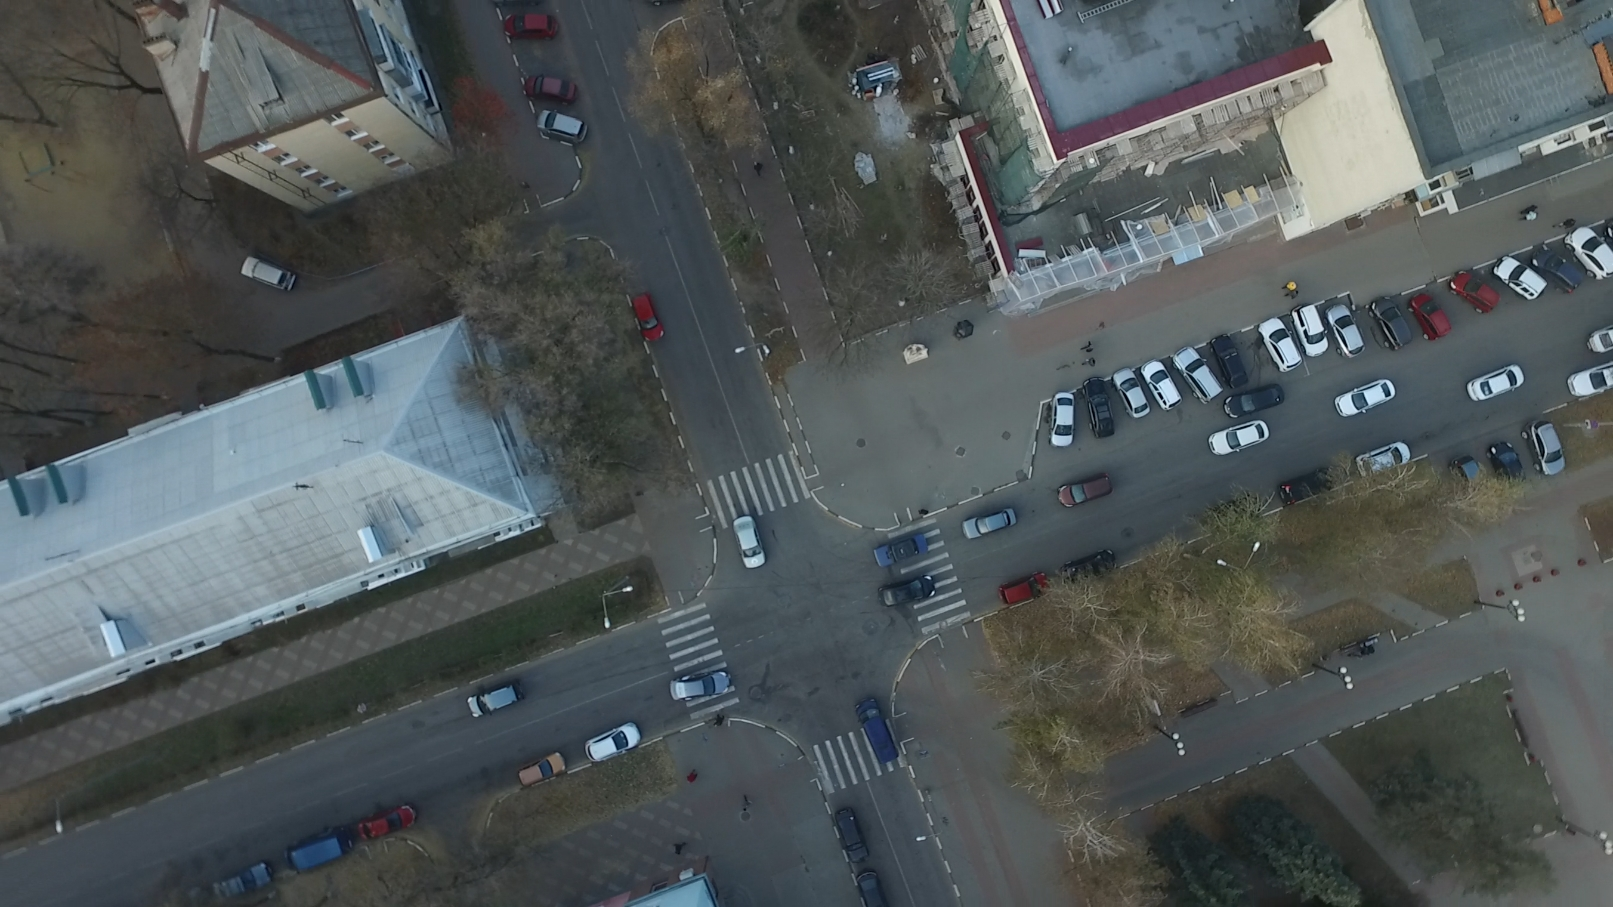car: (1175, 346, 1223, 406), (854, 700, 898, 764), (1566, 224, 1613, 285), (1276, 463, 1343, 505), (1492, 254, 1544, 307), (1532, 243, 1580, 297), (1369, 296, 1411, 357), (1447, 269, 1498, 319), (210, 860, 274, 900), (1199, 489, 1260, 530), (1354, 439, 1409, 483), (1523, 419, 1565, 476), (242, 252, 296, 297), (1057, 547, 1117, 587), (1209, 418, 1268, 457), (355, 801, 415, 839), (583, 720, 640, 761), (1333, 380, 1395, 418), (960, 504, 1019, 543), (1258, 316, 1299, 371), (537, 105, 588, 150), (1469, 364, 1525, 403), (1327, 302, 1366, 358), (667, 670, 731, 703), (1410, 292, 1451, 344), (468, 681, 521, 721), (1057, 471, 1112, 508), (284, 839, 350, 870), (1142, 359, 1180, 413), (1291, 302, 1328, 357), (1484, 439, 1524, 489), (1225, 383, 1286, 416), (1045, 389, 1080, 444), (1213, 336, 1249, 391), (879, 576, 939, 608), (1114, 369, 1151, 422), (730, 515, 766, 569), (518, 748, 565, 789), (872, 535, 927, 569), (1083, 375, 1113, 437), (631, 293, 670, 341), (526, 70, 578, 105), (835, 807, 866, 866), (1566, 362, 1613, 401), (997, 569, 1049, 604), (1451, 454, 1487, 501), (501, 16, 559, 43), (859, 870, 882, 907), (1588, 326, 1613, 357)
